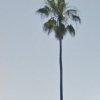Palm tree: (35, 2, 74, 87)
